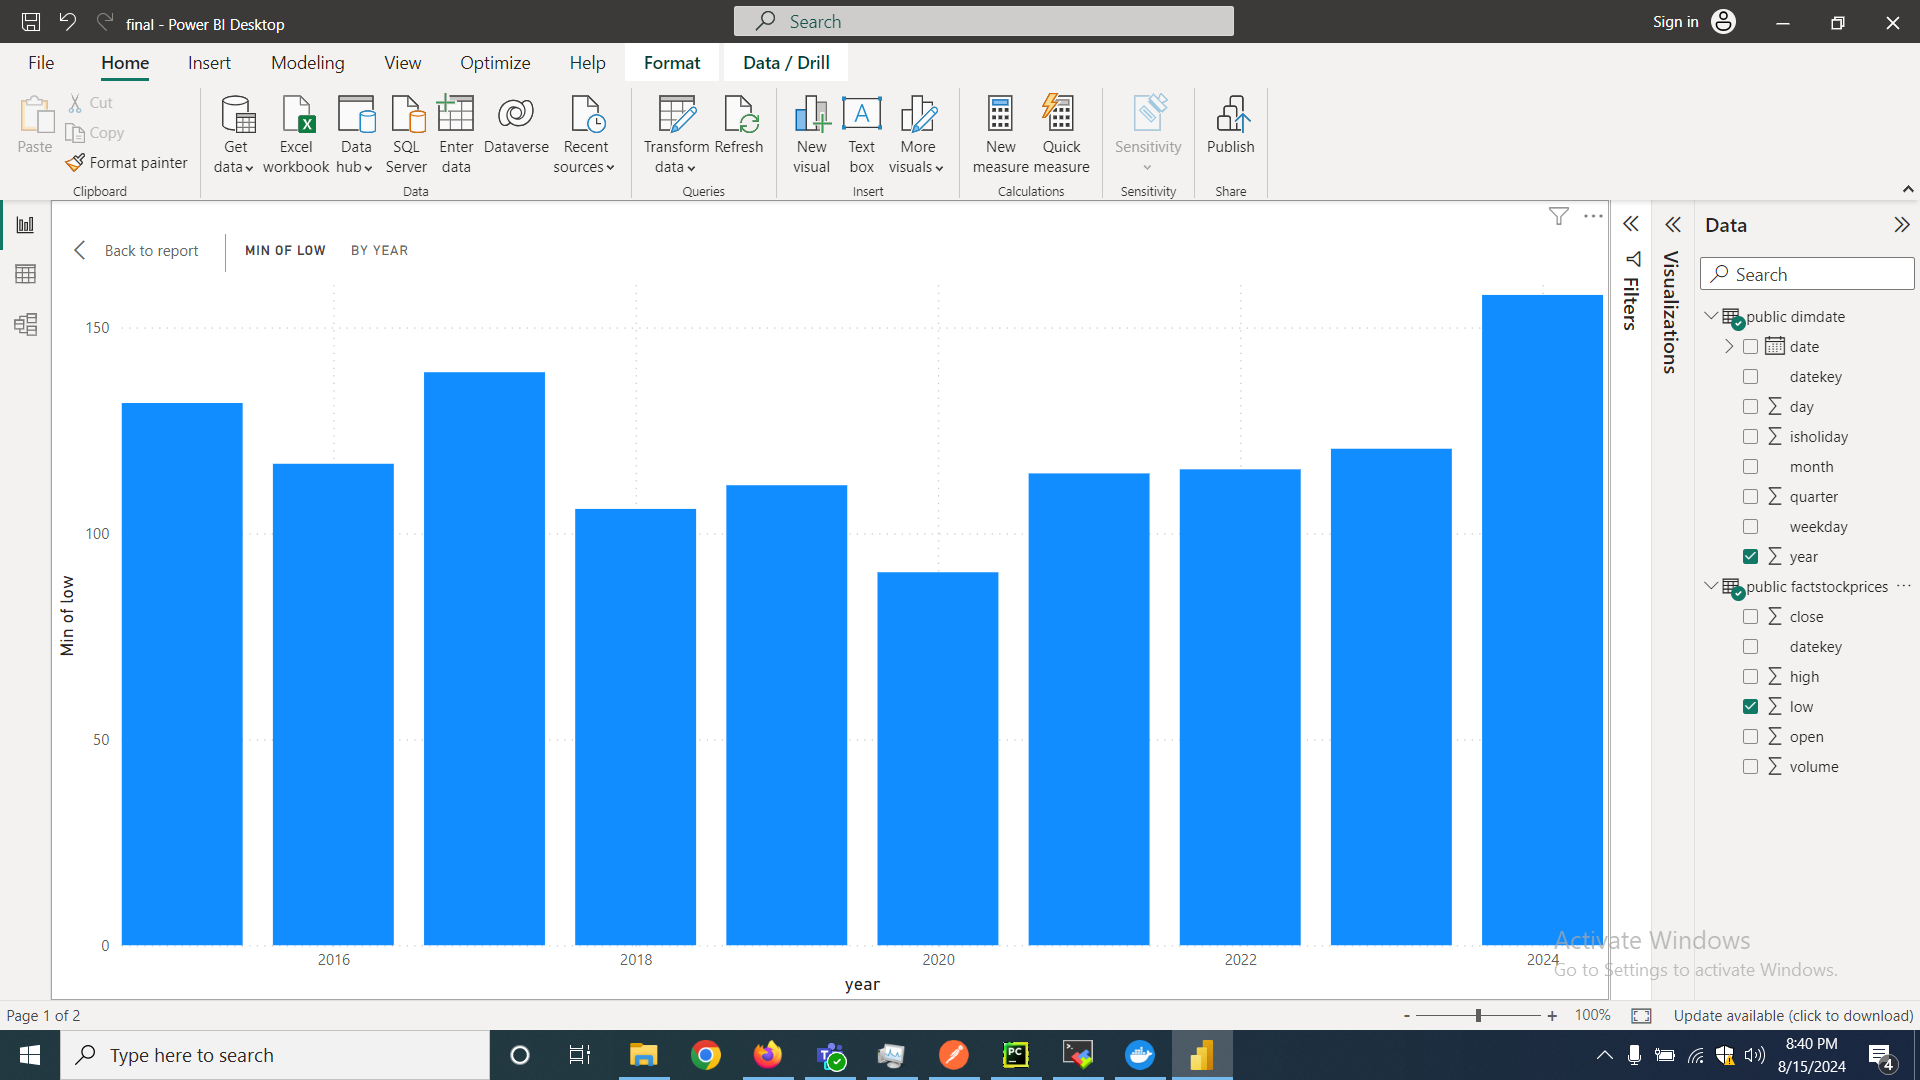

What the dashboard file says about the page in this screenshot:
{"tool":"powerbi","page":{"name":"Annual Low amount","canvas":[1280,720],"ordinal":0},"visuals":[{"type":"clusteredColumnChart","fields":{"Category":["public dimdate.year"],"Y":["Min(public factstockprices.low)"]},"box":[9.6,0,1214.4,562.6],"z":0}]}

Visuals, with their boxes on the page's 1280x720 design canvas (x1, y1, x2, y2). These are canvas units, not pixel positions in the 1920x1080 screenshot, which may show the page scaled, cropped or inside an application window:
clusteredColumnChart - public dimdate.year x Min(public factstockprices.low): 10/0/1224/563
